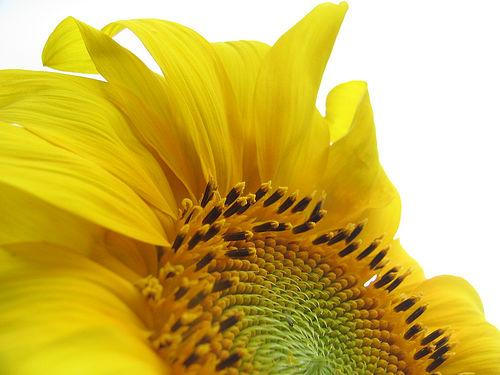sunflower: (0, 2, 500, 375)
